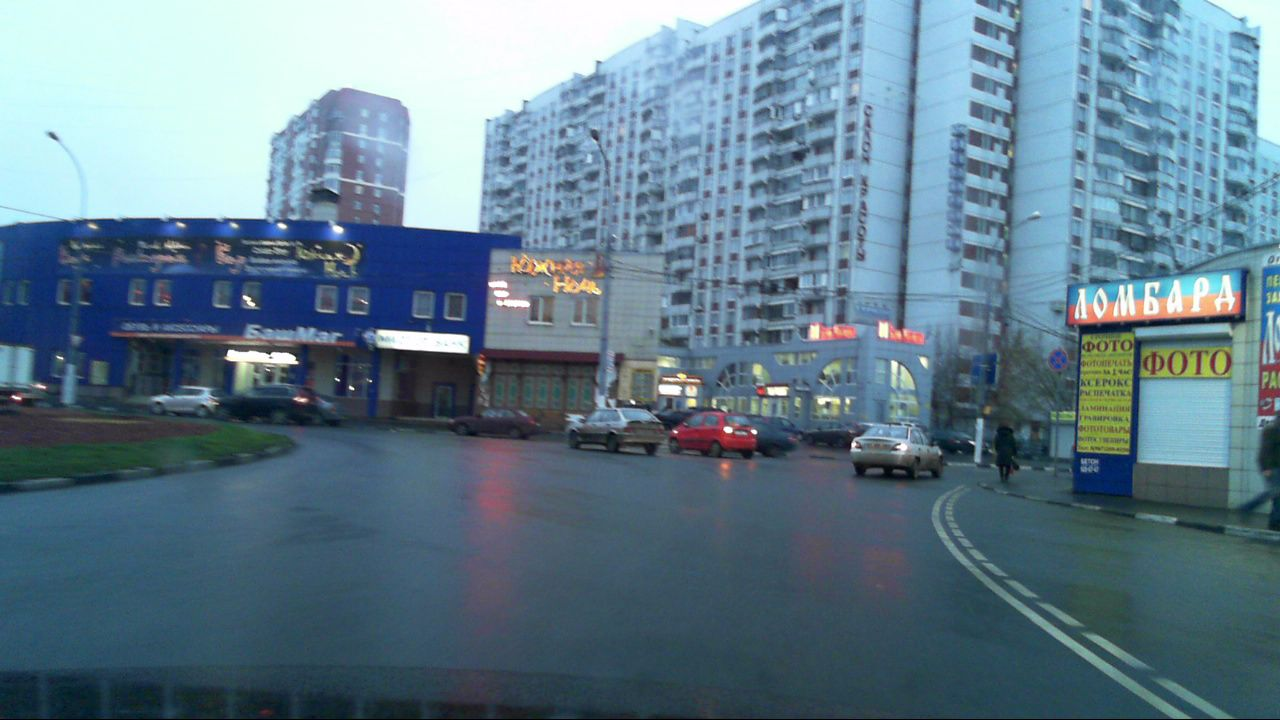No Parking: (1047, 347, 1069, 370)
